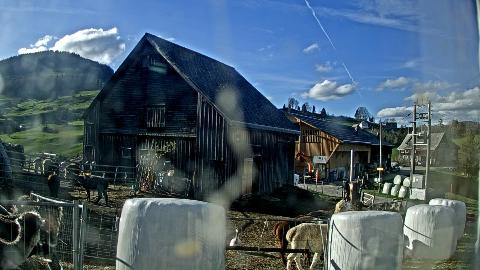car: (390, 165, 400, 173), (418, 160, 426, 166)
sheep: (286, 200, 352, 270), (0, 212, 44, 268), (274, 216, 324, 264), (1, 216, 54, 256), (64, 170, 110, 206), (308, 201, 363, 225), (0, 195, 40, 221), (47, 173, 61, 198), (60, 164, 82, 176), (33, 158, 45, 174), (388, 200, 400, 212), (42, 159, 52, 173), (60, 161, 73, 171), (376, 202, 388, 212), (51, 161, 59, 175), (395, 204, 405, 214), (391, 199, 397, 212)
